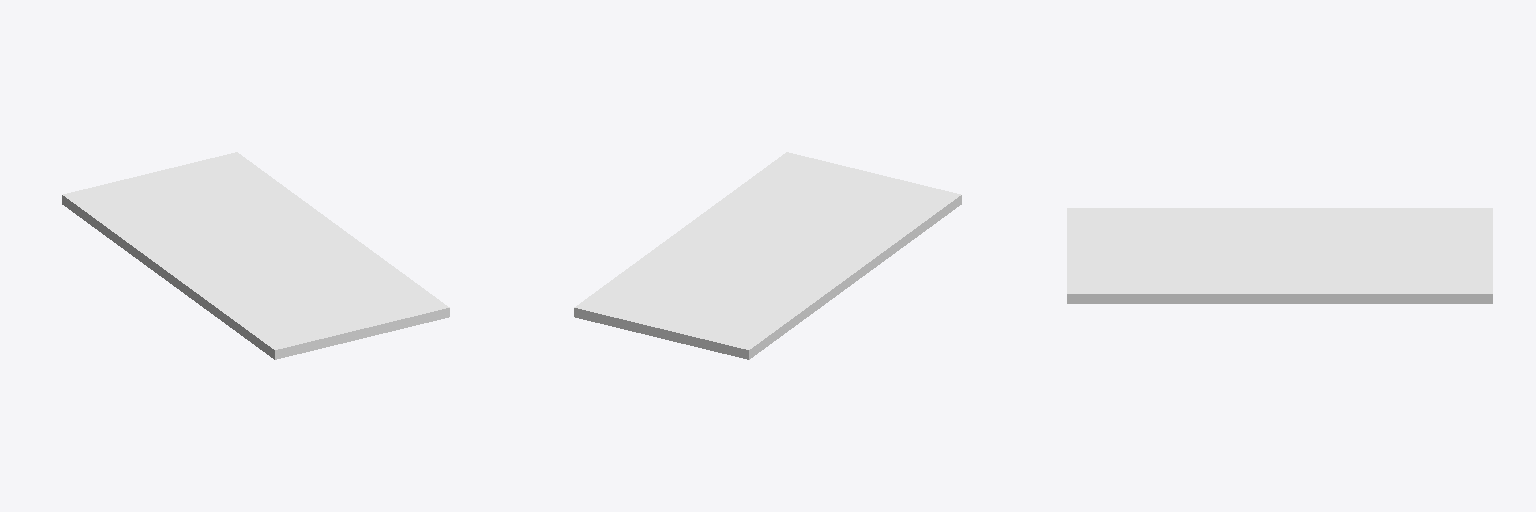
The model's file is sciezkaRowerowa.obj.
The picture shows the model from 3 angles: view 1: azimuth 30°, elevation 25°; view 2: azimuth 150°, elevation 25°; view 3: azimuth 270°, elevation 25°; orthographic projection.
Parts seen in each view (by area): view 1: object 1; view 2: object 1; view 3: object 1.
Boxes of the visible parts, x1=… form: object 1: x1=62, y1=152, x2=449, y2=359; object 1: x1=574, y1=152, x2=961, y2=359; object 1: x1=1067, y1=208, x2=1492, y2=303.
Size of the model in its own units: 1.9 by 0.1 by 4.